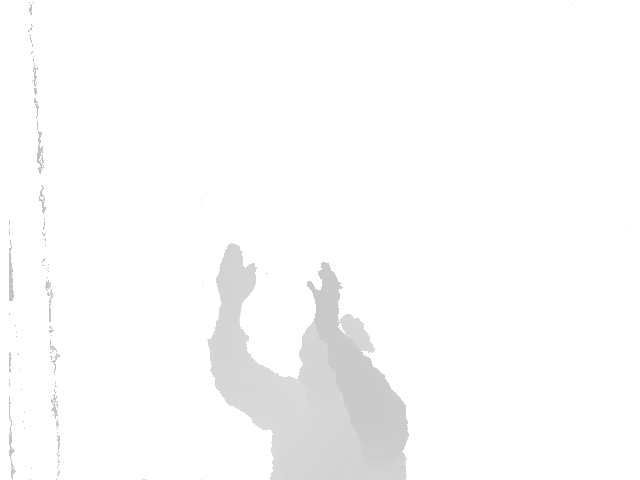hand: (303, 260, 346, 339), (212, 245, 261, 309)
head: (296, 311, 377, 386)
person: (206, 243, 413, 480)
